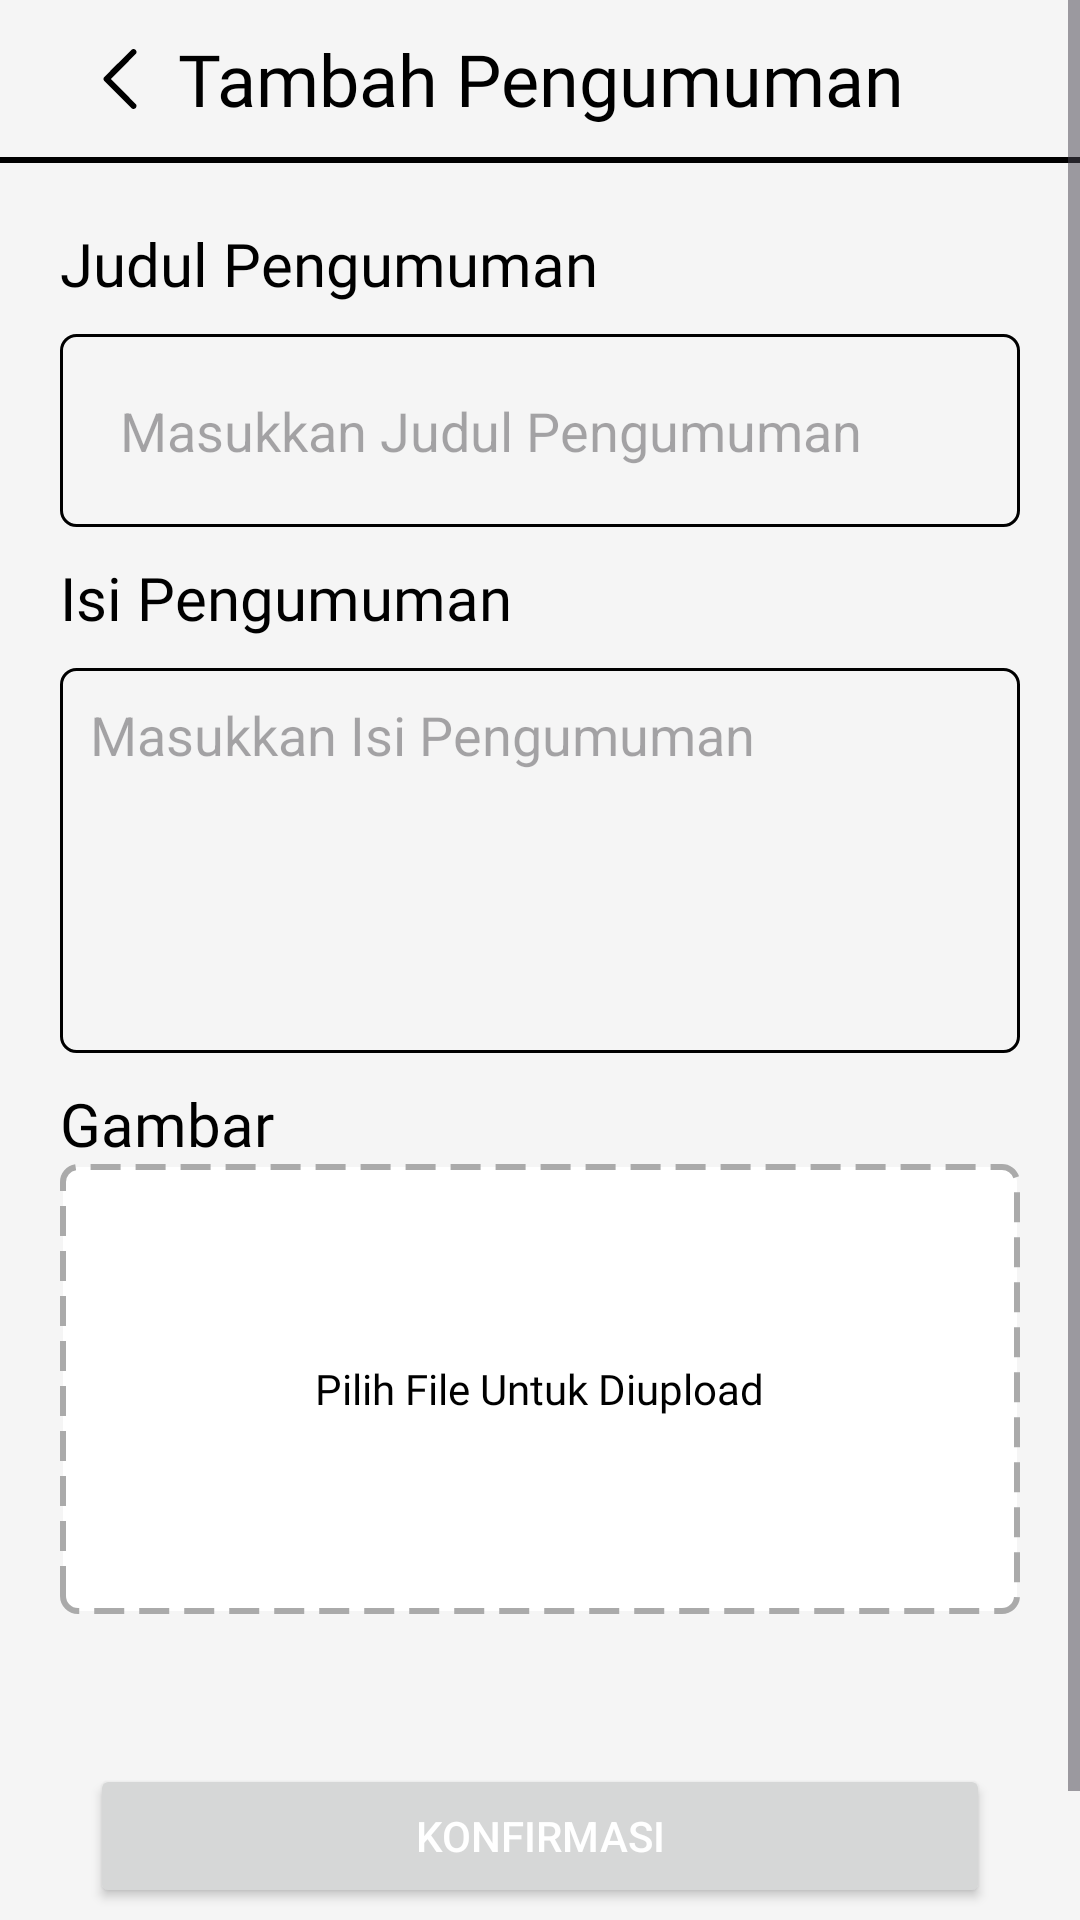

Point at icon controls on the screen. Image size 1080*1920, points as [x,y].
back: [120,79]
